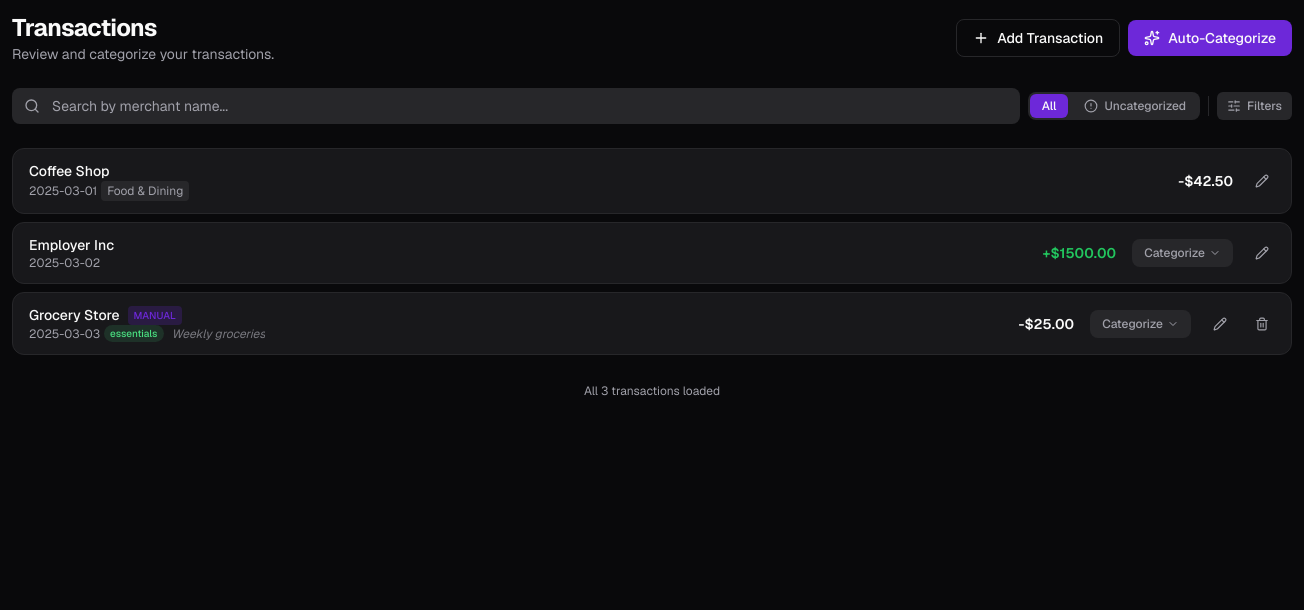
it: TransactionsPage › shows inline edit form with pre-filled values when edit button is clicked
The image size is (1304, 610).
expect the text "Coffee Shop" is shown: met, box [29,161,110,181]
Click the button titled "Edit transaction" next to "$42.50" at {"x": 1262, "y": 181}, box [1249,168,1275,194]
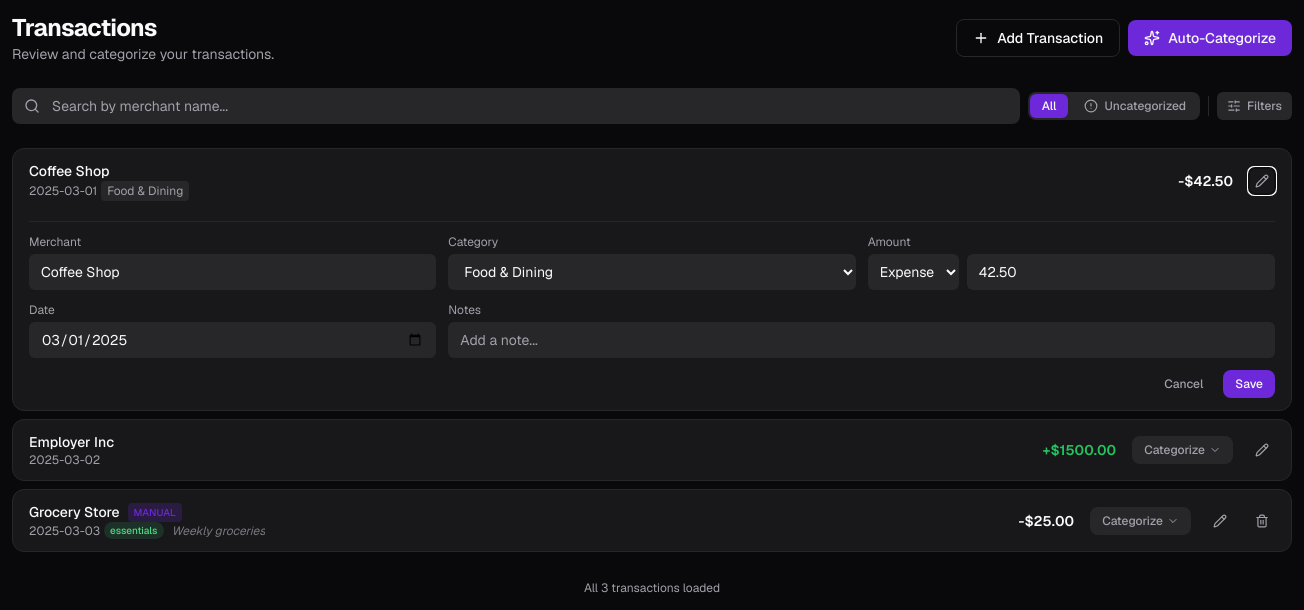
expect the field showing "Coffee Shop" is shown: met, box [29,254,436,290]
expect the number field showing "42.50" is shown: met, box [967,254,1275,290]
expect the date field showing "2025-03-01" is shown: met, box [29,322,436,358]
